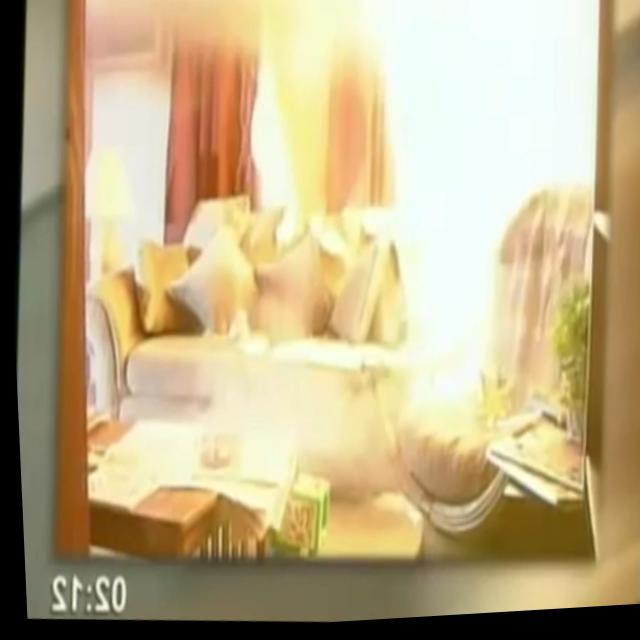fire: (333, 0, 611, 416)
